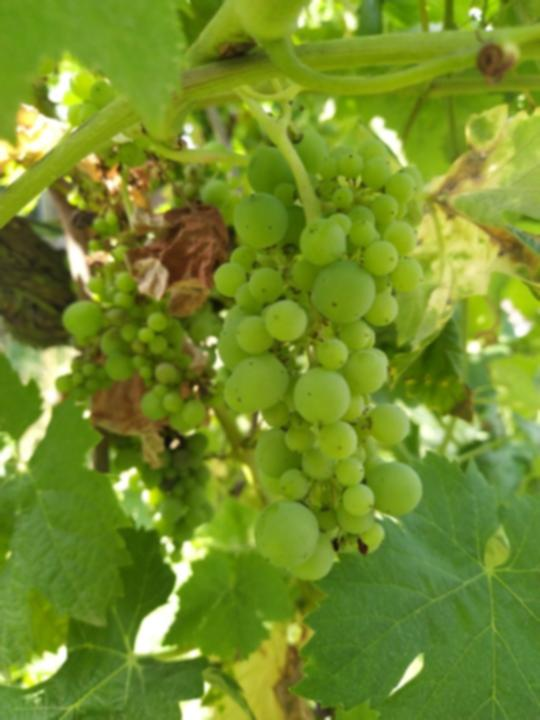grape: (216, 126, 425, 584)
